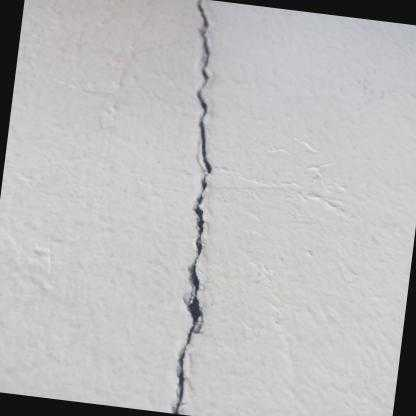crack: (172, 0, 212, 414)
